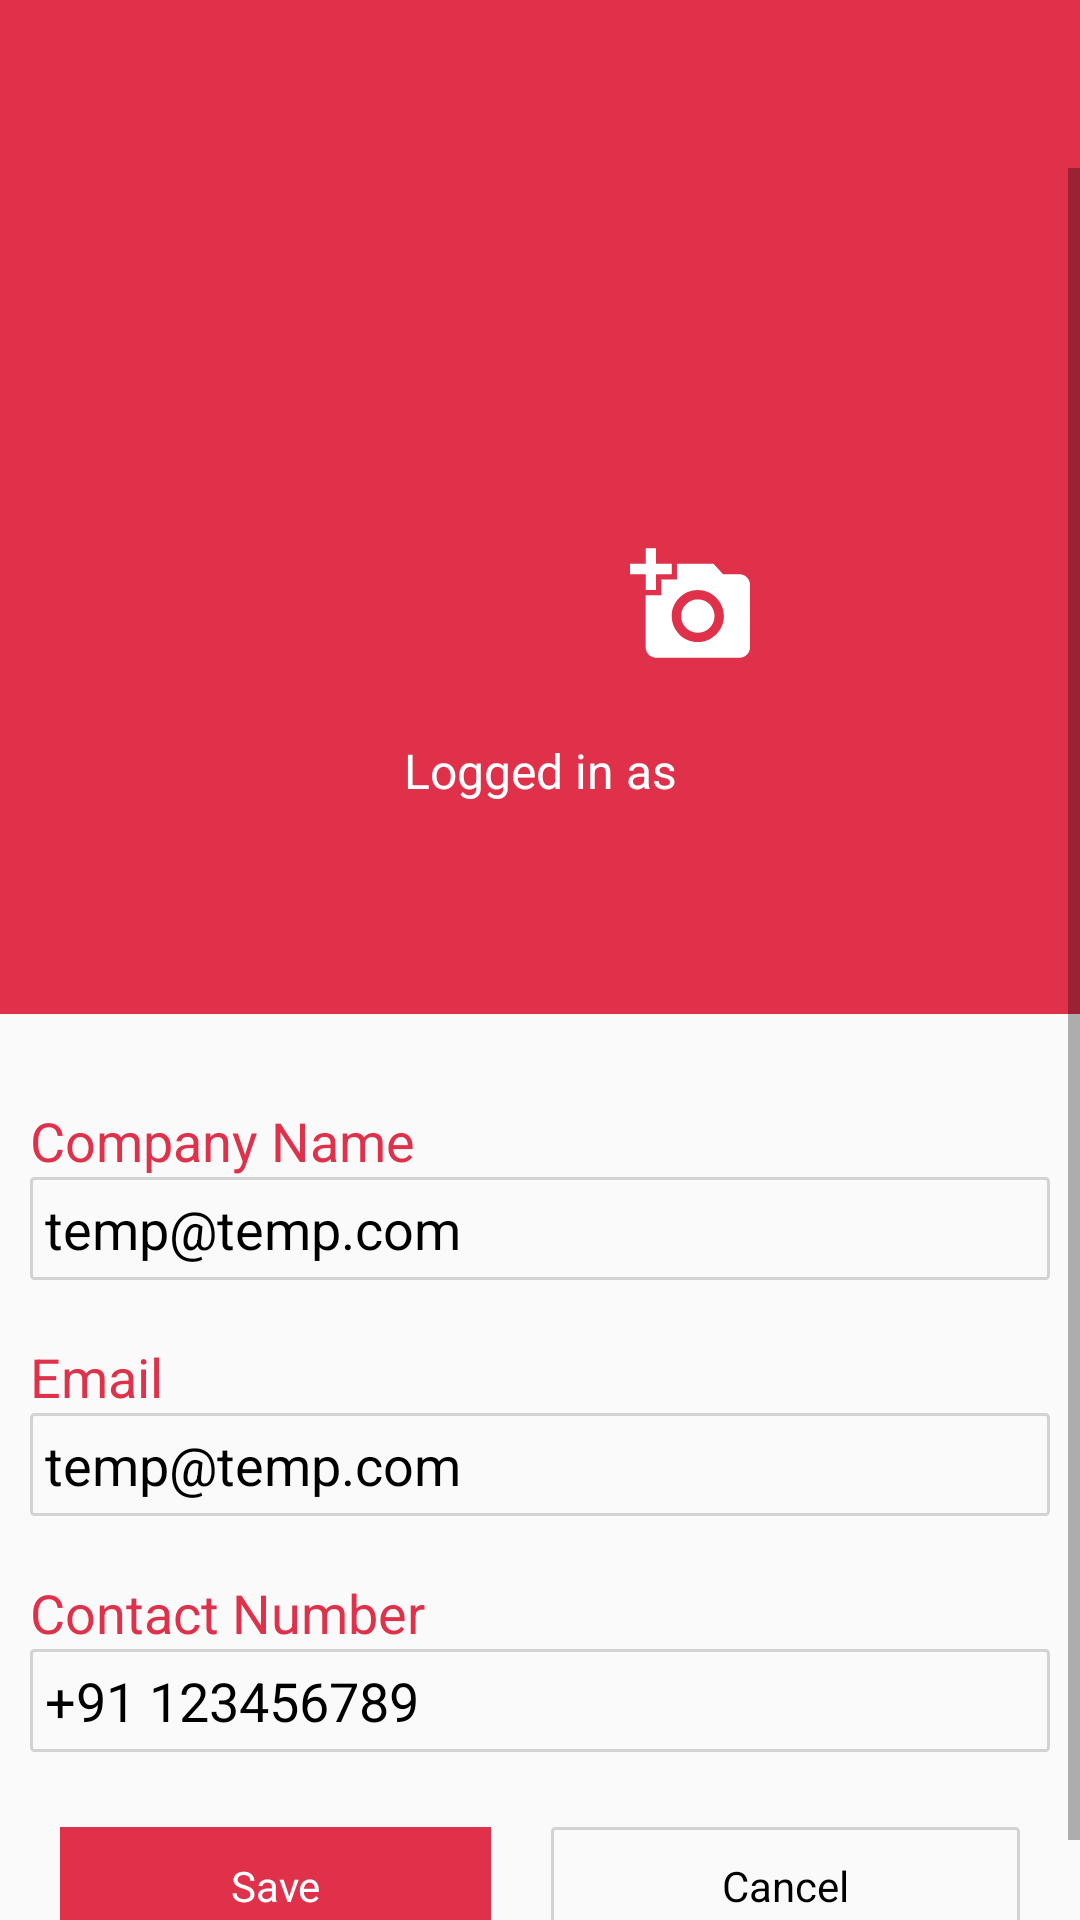

Named icons in this screenshot (1080 × 1920) and their bounding boxes, [x1, y1, x2, y2]:
camera: [630, 548, 750, 658]
